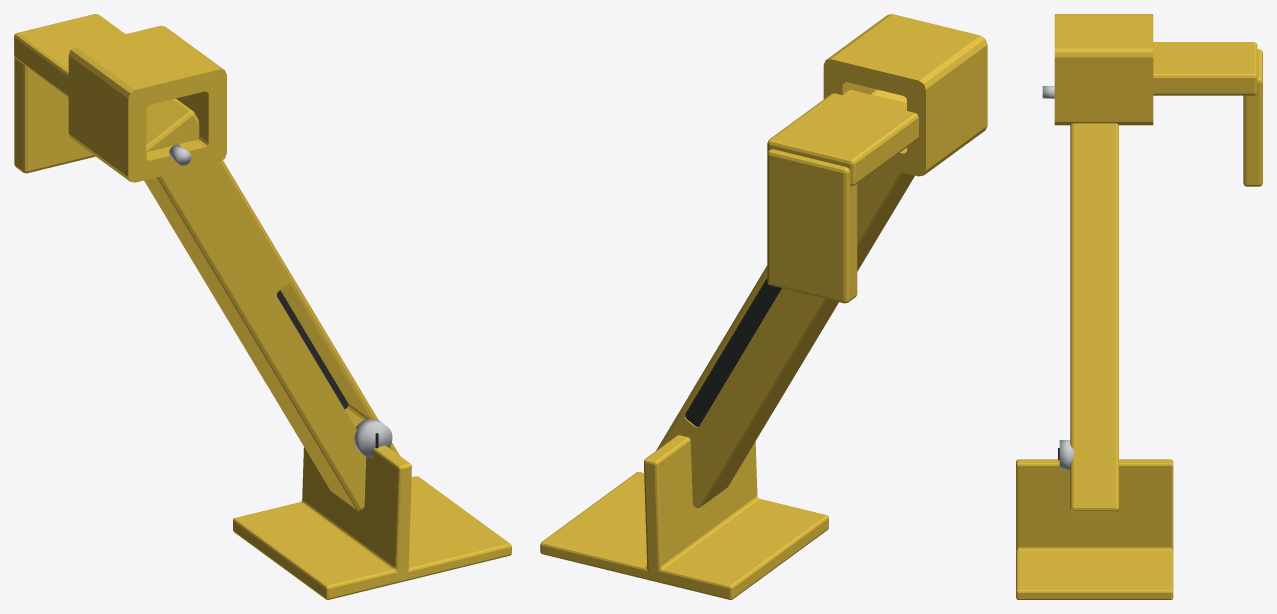
Rendered from full.glb.
3 views of the same model, side by side, from view 1: azimuth 30°, elevation 25°; view 2: azimuth 150°, elevation 25°; view 3: azimuth 270°, elevation 25° (orthographic). The views are drawn at different scales.
Parts seen in each view (by area): view 1: Diagonal rectangular arm, Folded ground tyre support, Raised rectangular receiver, Generic rear downturned capture, Generic rear receiver spine, Round silver locking face, Recessed dark slot lining; view 2: Folded ground tyre support, Diagonal rectangular arm, Raised rectangular receiver, Generic rear downturned capture, Generic rear receiver spine, Recessed dark slot lining; view 3: Folded ground tyre support, Diagonal rectangular arm, Raised rectangular receiver, Generic rear receiver spine, Generic rear downturned capture, Round silver locking face.
Boxes of the visible parts, box(x1,y1,x2,y2) form: Diagonal rectangular arm: box(144, 98, 399, 511); Folded ground tyre support: box(233, 445, 511, 599); Raised rectangular receiver: box(68, 25, 226, 182); Generic rear downturned capture: box(14, 56, 95, 173); Generic rear receiver spine: box(14, 14, 125, 97); Round silver locking face: box(354, 418, 392, 458); Recessed dark slot lining: box(276, 290, 348, 409); Folded ground tyre support: box(540, 435, 828, 599); Diagonal rectangular arm: box(656, 89, 914, 507); Raised rectangular receiver: box(823, 14, 987, 176); Generic rear downturned capture: box(767, 149, 857, 303); Generic rear receiver spine: box(767, 89, 918, 185); Recessed dark slot lining: box(685, 278, 781, 426); Folded ground tyre support: box(1016, 459, 1173, 599); Diagonal rectangular arm: box(1070, 123, 1118, 512); Raised rectangular receiver: box(1054, 14, 1153, 125); Generic rear receiver spine: box(1153, 42, 1257, 95); Generic rear downturned capture: box(1243, 49, 1262, 186); Round silver locking face: box(1059, 440, 1073, 469).
Bounding box in the file's own units: 0.3185 × 0.451 × 0.2275.
